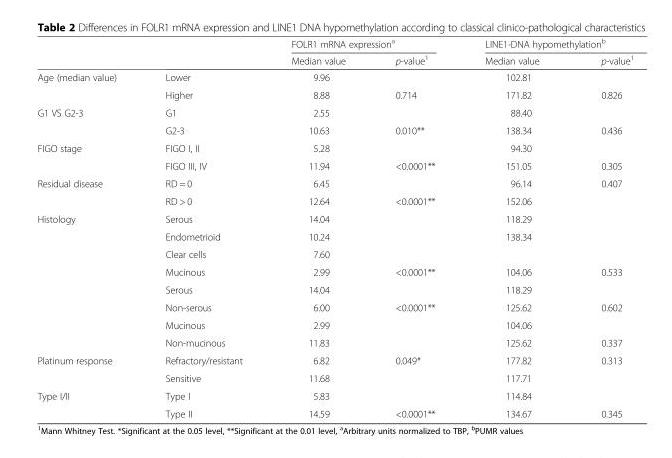table: (36, 36, 633, 418)
table column: (140, 36, 266, 418), (459, 36, 569, 418), (36, 36, 140, 418), (266, 36, 369, 418), (369, 36, 459, 418), (569, 36, 633, 418)
table column header: (36, 36, 633, 68)
table row: (36, 85, 633, 103), (36, 103, 633, 121), (36, 138, 633, 156), (36, 156, 633, 174), (36, 174, 633, 192), (36, 209, 633, 227), (36, 227, 633, 245), (36, 262, 633, 280), (36, 280, 633, 298), (36, 315, 633, 333), (36, 333, 633, 351), (36, 351, 633, 369), (36, 386, 633, 404), (36, 51, 633, 68), (36, 68, 633, 85), (36, 121, 633, 138), (36, 192, 633, 209), (36, 245, 633, 262), (36, 298, 633, 315), (36, 369, 633, 386), (36, 36, 633, 51), (36, 404, 633, 418)
table spanning cell: (36, 209, 140, 351), (36, 138, 140, 174), (36, 68, 140, 103), (36, 103, 140, 138), (36, 174, 140, 209), (36, 351, 140, 386), (36, 386, 140, 418), (266, 36, 459, 51), (459, 36, 633, 51)
